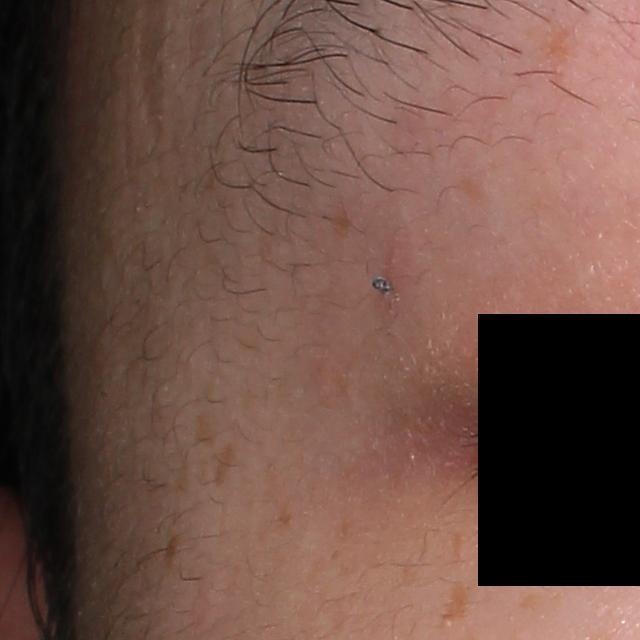melasma: (447, 578, 474, 621), (212, 443, 236, 486), (449, 530, 467, 566), (517, 592, 545, 613)
